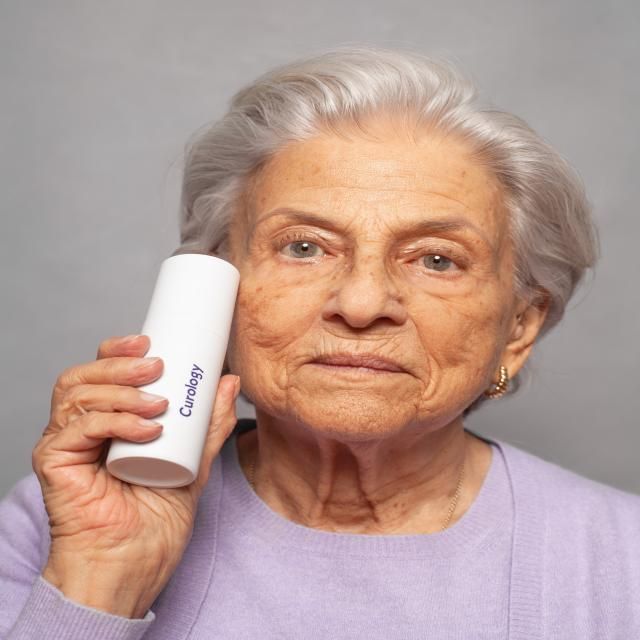Wrinkles: (387, 190, 433, 196), (424, 191, 452, 199), (452, 199, 471, 210), (283, 187, 307, 194), (349, 188, 387, 191), (355, 169, 372, 173), (349, 217, 357, 225), (391, 230, 397, 239), (384, 223, 391, 230), (307, 185, 322, 187), (344, 225, 349, 231), (320, 187, 349, 188), (377, 176, 403, 177), (327, 168, 350, 169), (309, 188, 320, 189)
